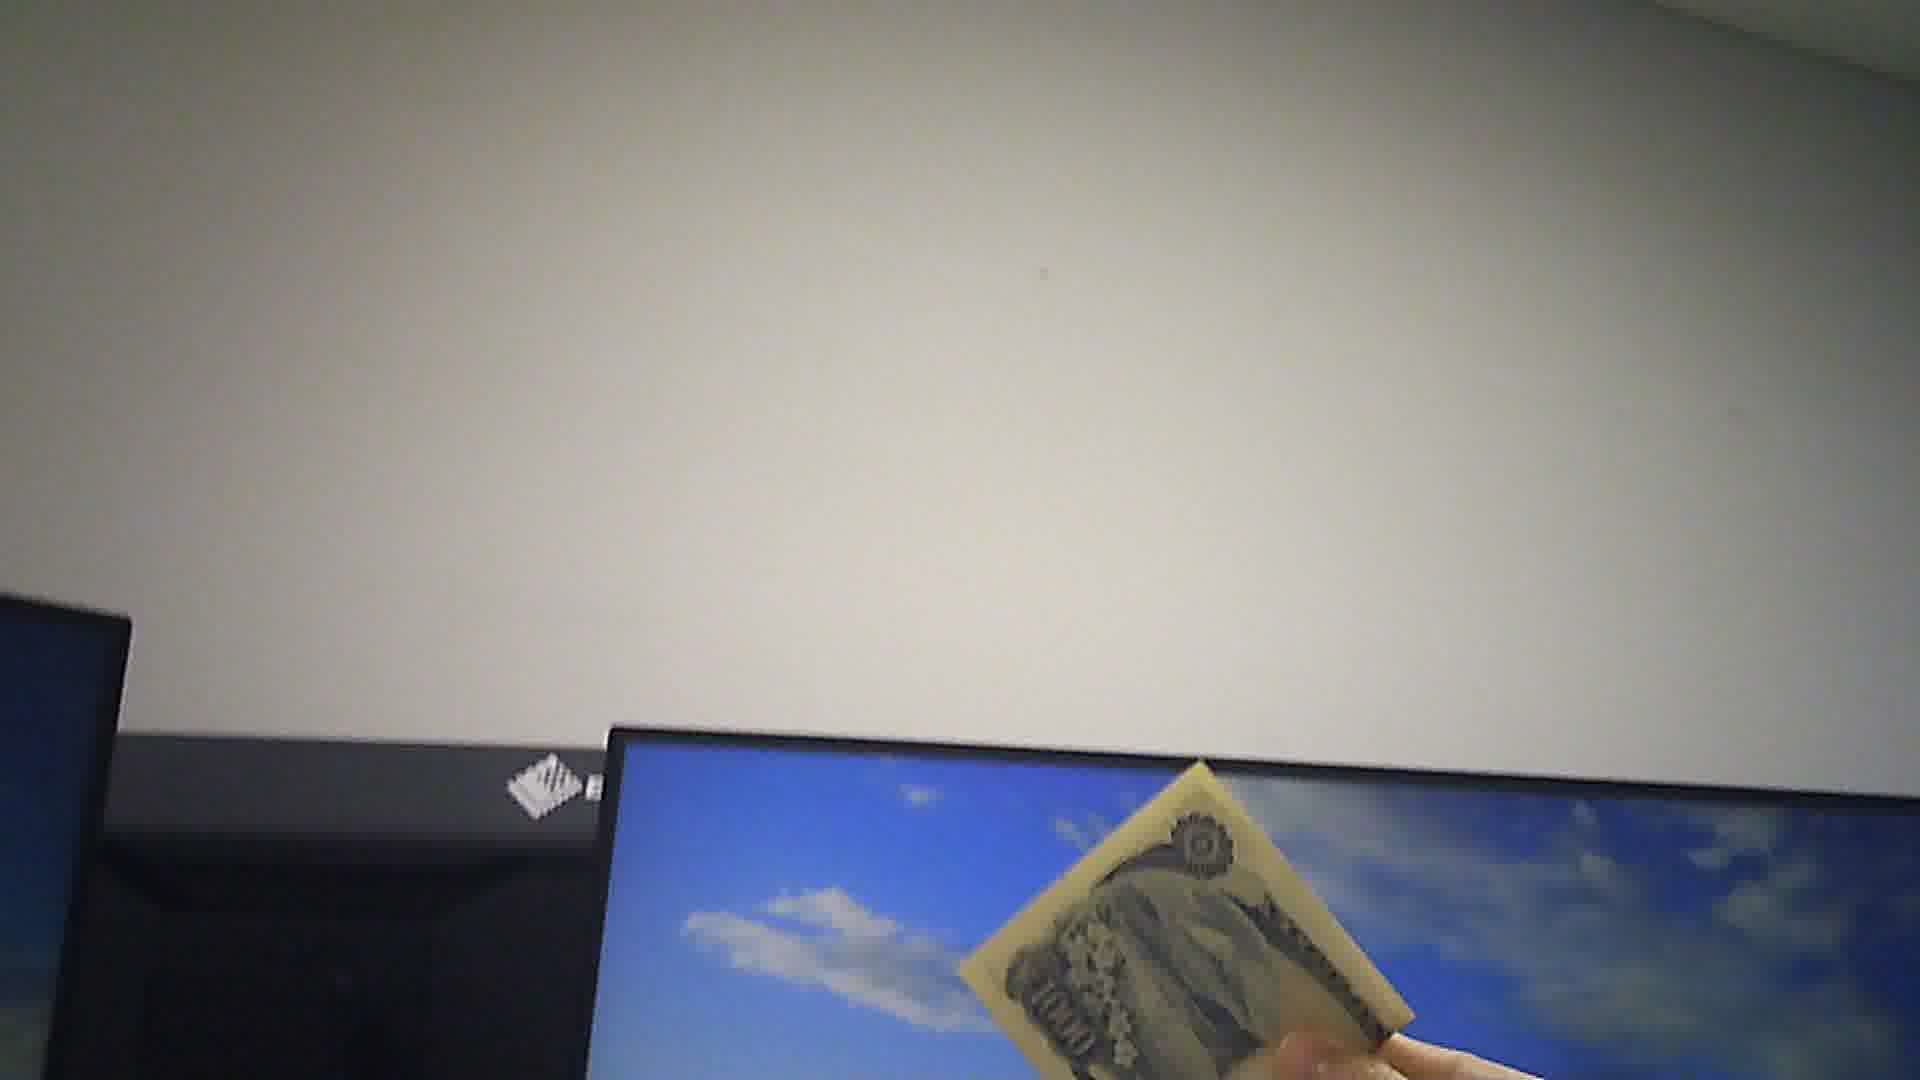1,000 Yen: (976, 767, 1404, 1079)
